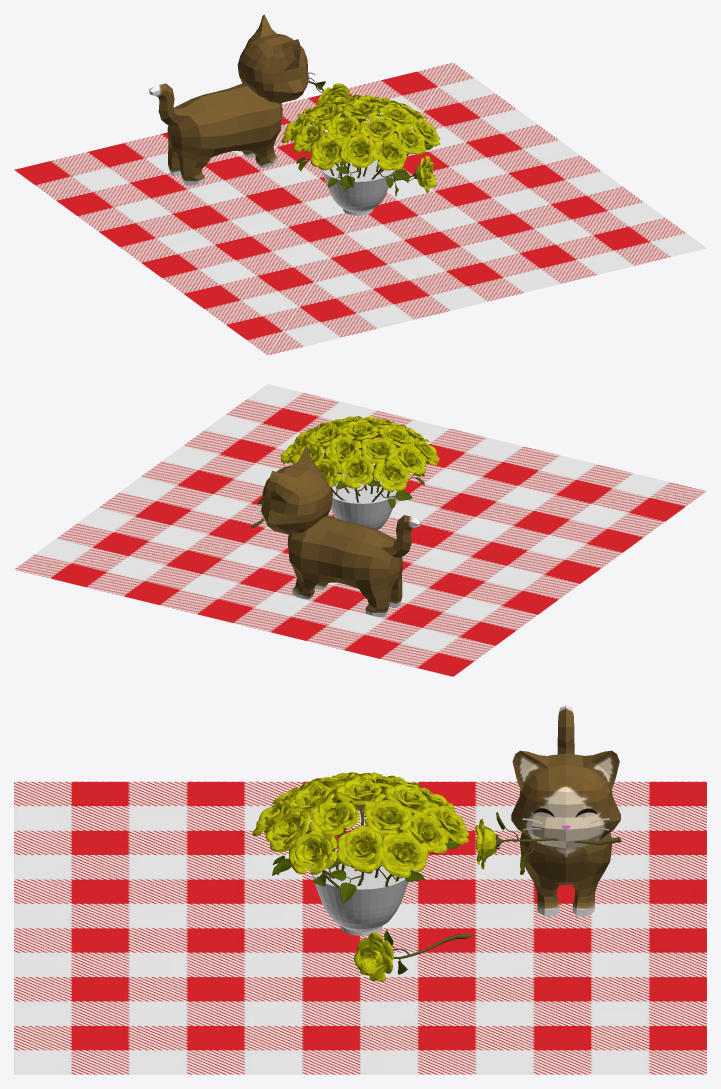
File: floresCrismel.glb
3 renders of one model, top to bottom at view 1: azimuth 30°, elevation 25°; view 2: azimuth 150°, elevation 25°; view 3: azimuth 270°, elevation 25°, orthographic. The views are drawn at different scales.
Parts seen in each view (by area): view 1: Plane, Cube, Cylinder, Plane.011, Plane.015, Plane.016, Plane.006, Plane.009, Plane.002, Plane.007, Plane.021, Plane.001 (+1 smaller); view 2: Plane, Cube, Cylinder, Plane.018, Plane.010, Plane.003, Plane.014, Plane.007, Plane.001, Plane.013, Plane.005, Plane.006 (+1 smaller); view 3: Plane, Cube, Cylinder, Plane.008, Plane.021, Plane.017, Plane.019, Plane.004, Plane.009, Plane.005, Plane.020, Plane.012 (+5 smaller).
Part boxes in pixels (box(x1,y1,x2,y2)): Plane: box(14, 62, 706, 355); Cube: box(148, 14, 315, 185); Cylinder: box(321, 160, 394, 215); Plane.011: box(336, 133, 373, 190); Plane.015: box(371, 138, 410, 188); Plane.016: box(310, 138, 353, 187); Plane.006: box(324, 116, 360, 174); Plane.009: box(378, 125, 425, 182); Plane.002: box(359, 115, 395, 176); Plane.007: box(293, 124, 334, 175); Plane.021: box(393, 155, 436, 196); Plane.001: box(339, 100, 378, 170); Plane: box(14, 384, 706, 676); Cube: box(254, 446, 421, 617); Cylinder: box(331, 474, 397, 529); Plane.018: box(371, 458, 412, 508); Plane.010: box(337, 456, 379, 502); Plane.003: box(361, 437, 396, 493); Plane.014: box(324, 437, 361, 496); Plane.007: box(385, 444, 426, 497); Plane.001: box(341, 421, 378, 490); Plane.013: box(314, 458, 346, 501); Plane.005: box(307, 425, 349, 493); Plane.006: box(376, 426, 412, 492); Plane: box(14, 781, 706, 1074); Cube: box(511, 705, 620, 916); Cylinder: box(310, 848, 412, 935); Plane.008: box(330, 825, 385, 903); Plane.021: box(354, 930, 473, 981); Plane.017: box(350, 832, 428, 886); Plane.019: box(289, 830, 339, 888); Plane.004: box(309, 801, 359, 870); Plane.009: box(265, 811, 334, 878); Plane.005: box(363, 800, 412, 877); Plane.020: box(475, 812, 621, 874); Plane.012: box(395, 811, 448, 881).
Size of the model in its own units: 59.12 by 17.02 by 59.12.
8 materials, 3 textured.
